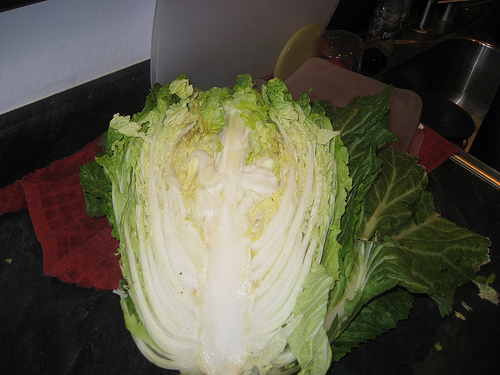cabbage: (79, 73, 493, 373)
